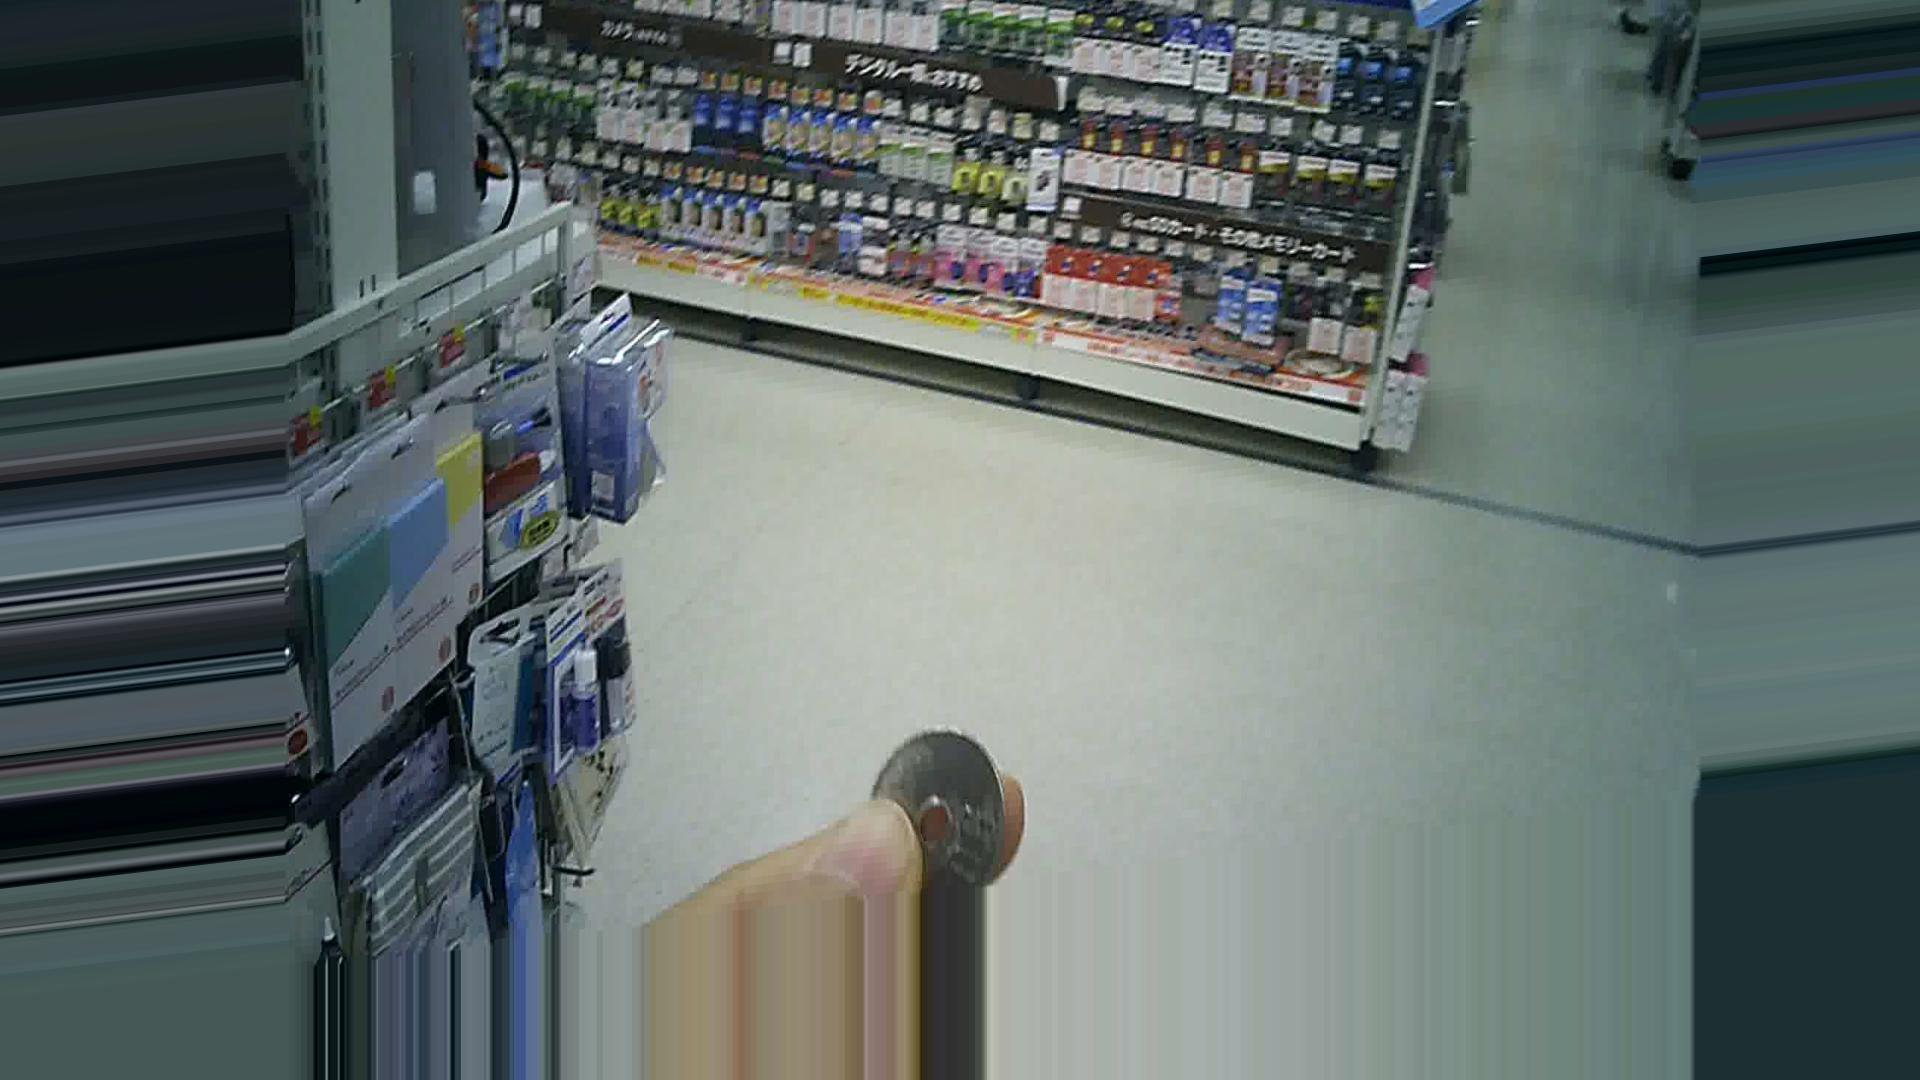50 Yen: (858, 725, 1021, 893)
